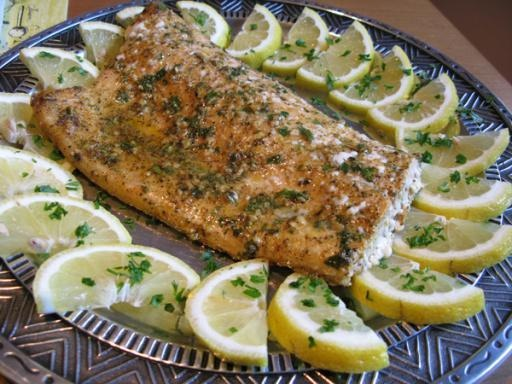background: (0, 0, 410, 224)
